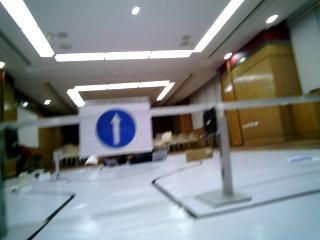straight: (77, 106, 153, 150)
